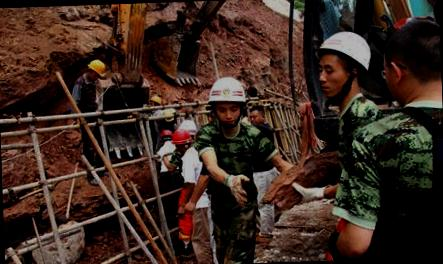no_helmet: (381, 16, 441, 112), (244, 102, 269, 130)
